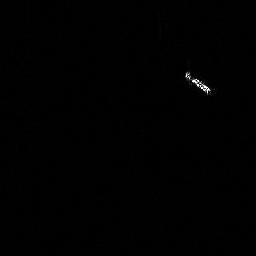ship: (181, 67, 216, 98)
